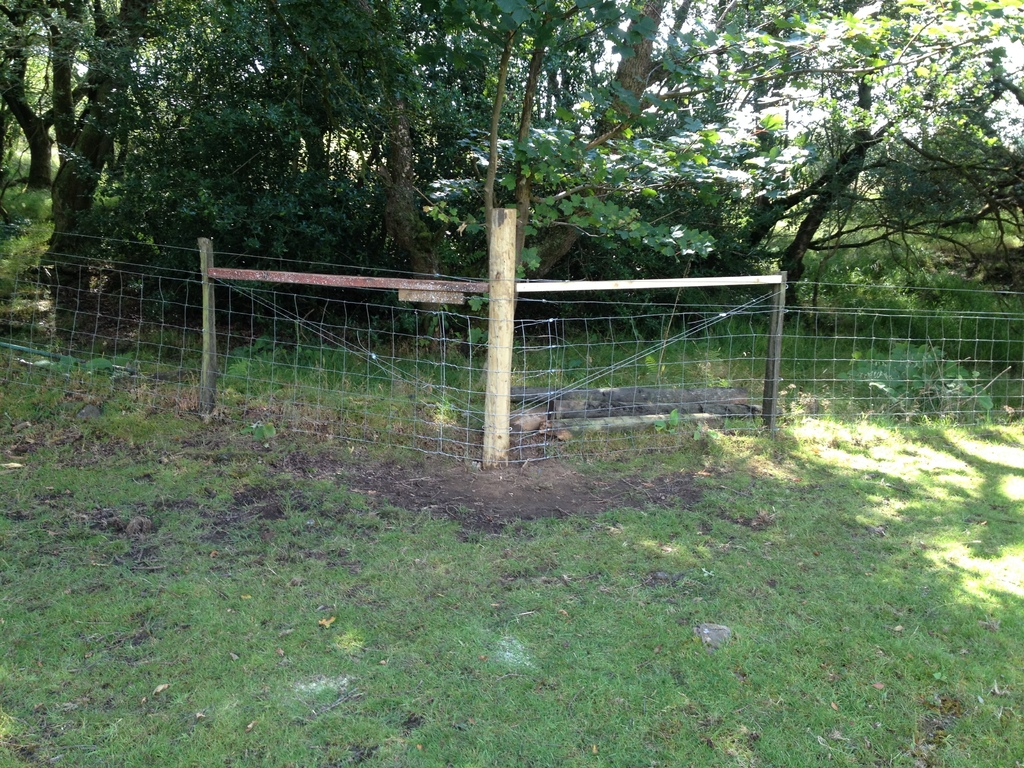Tree: (0, 0, 1023, 353)
